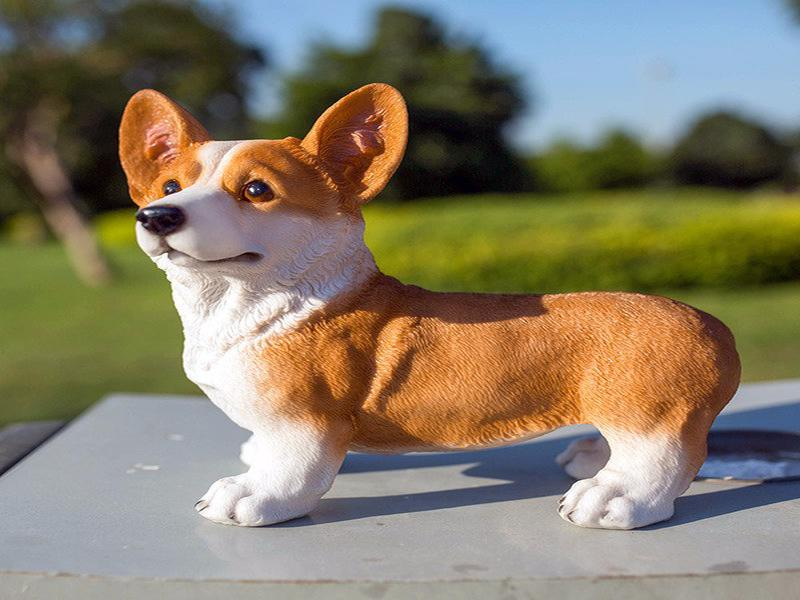corgi: (118, 84, 409, 275)
